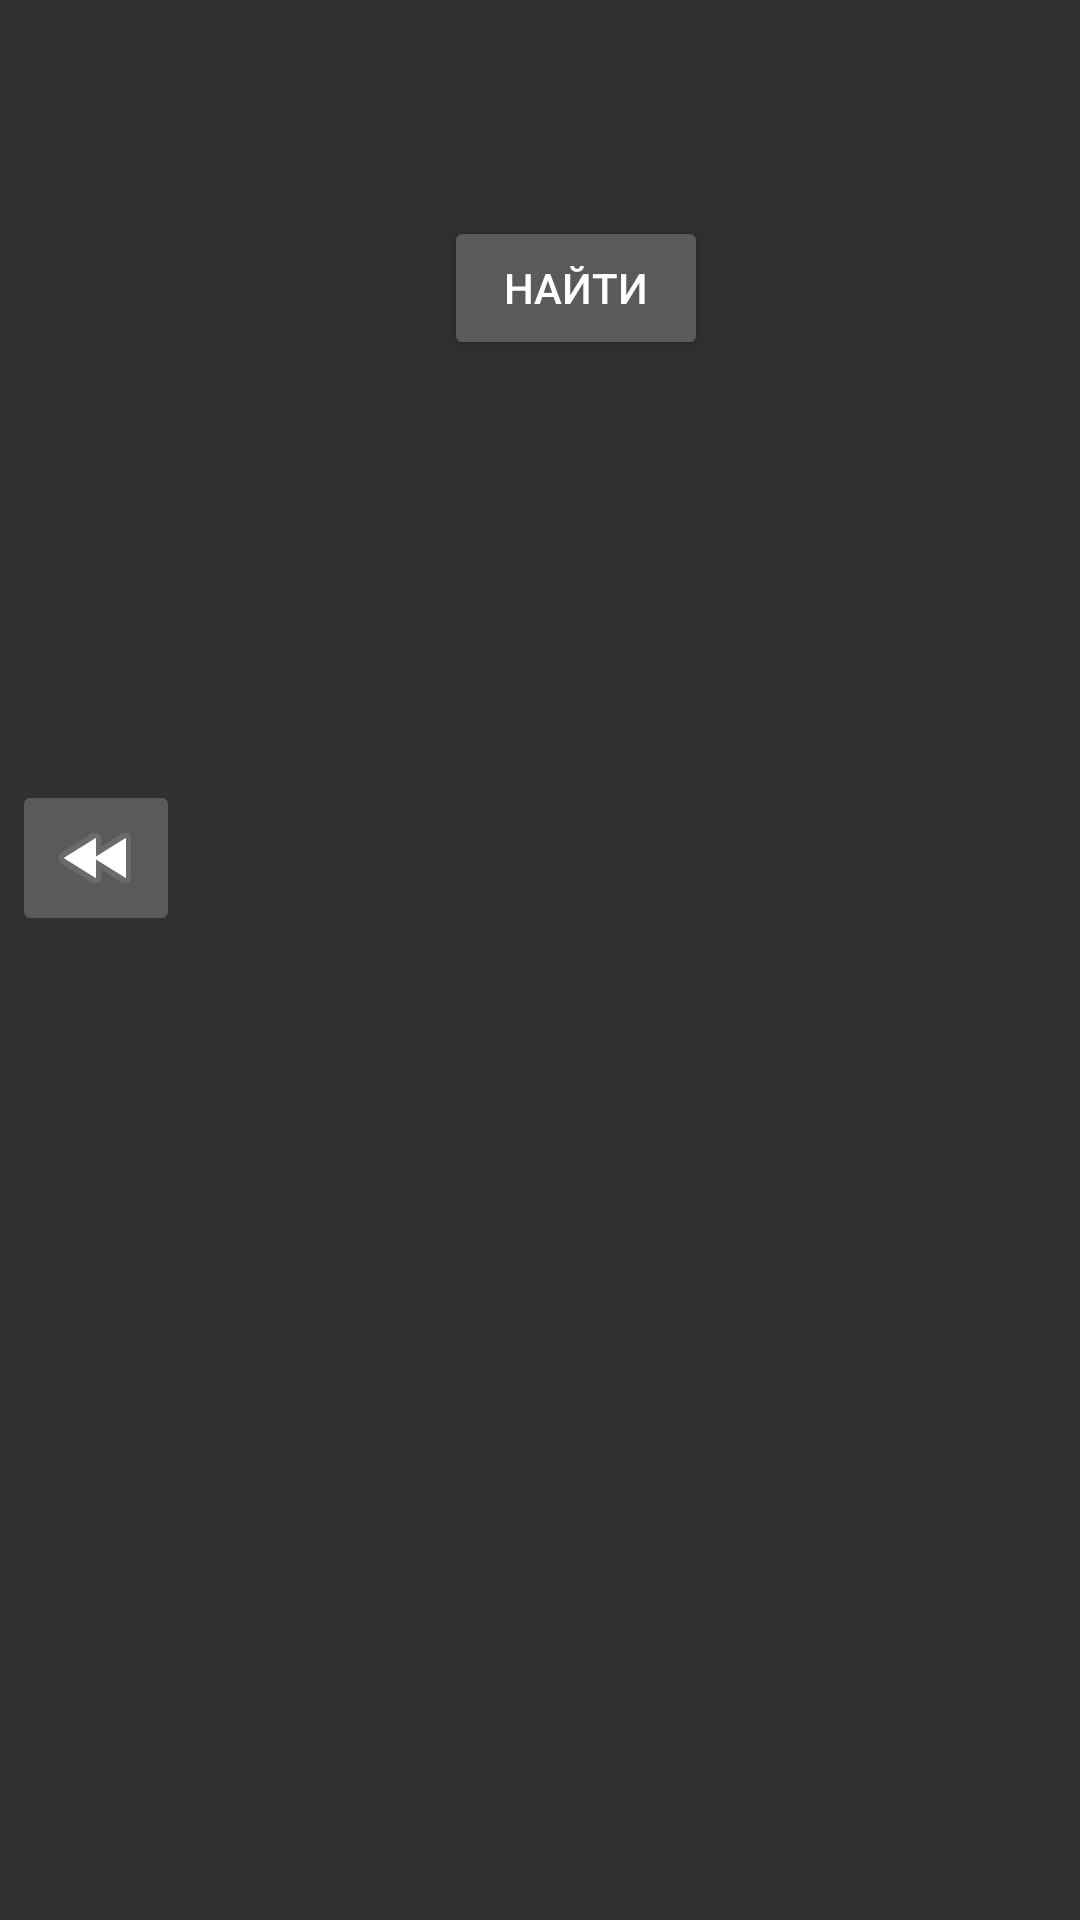

Where to tap for icons on this 1080px x 1920px app screen, as (x=x, y=y):
rew: (x=96, y=858)
